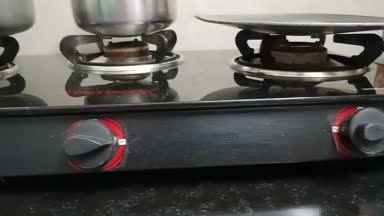flame_gas_off: (61, 27, 157, 171)
